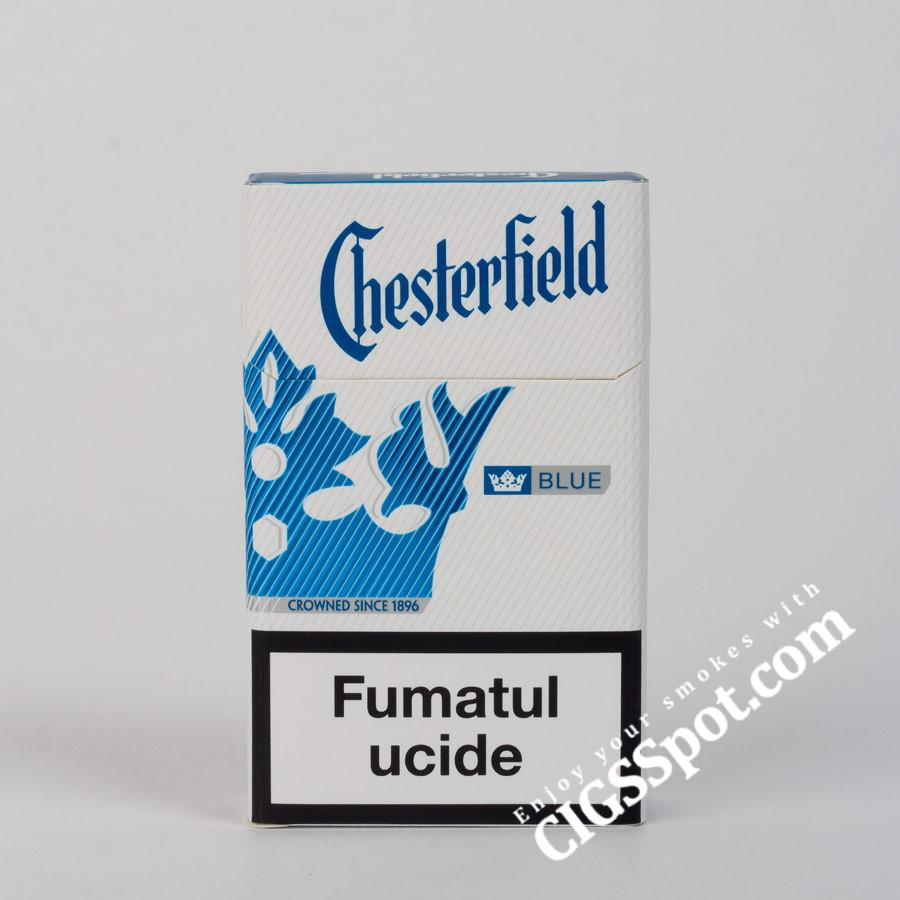chesterfield_blue: (246, 191, 639, 823)
